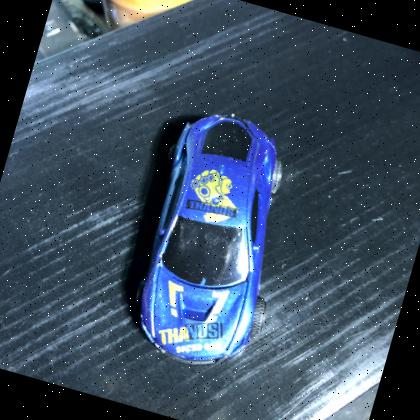Car: (106, 94, 324, 386)
